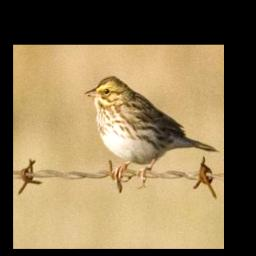Sparrow: (82, 72, 219, 188)
